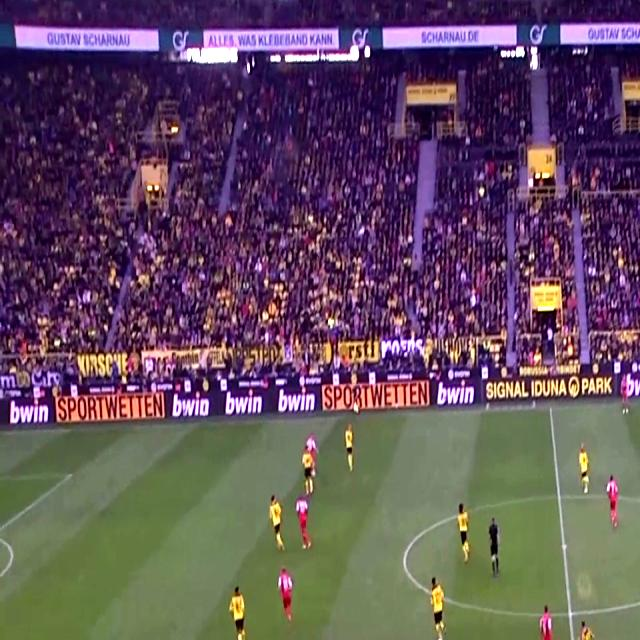referee: (483, 514, 507, 586)
soccer-player: (422, 573, 452, 640), (222, 580, 254, 640), (289, 497, 319, 561), (274, 562, 301, 628), (297, 429, 322, 497), (450, 500, 473, 570), (266, 491, 290, 555), (606, 473, 628, 536), (341, 419, 362, 476), (574, 439, 594, 498), (536, 603, 564, 640), (571, 617, 605, 640), (619, 368, 633, 416)
